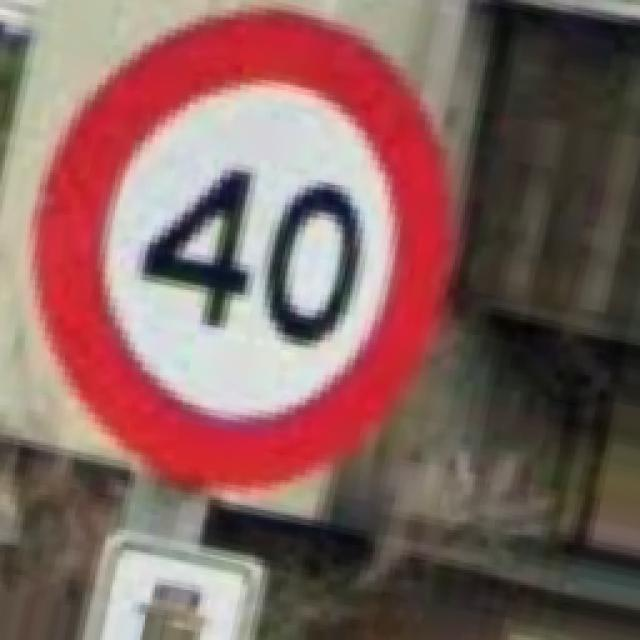Speed Limit -40-: (38, 10, 450, 490)
